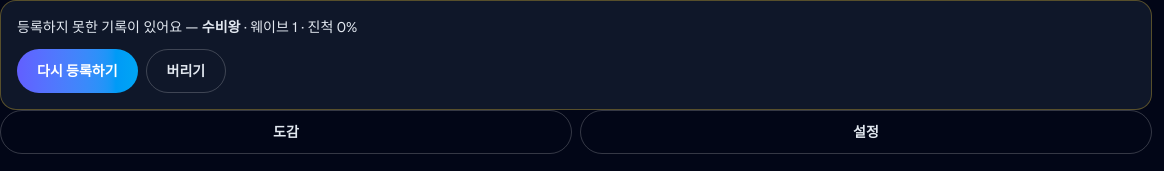
도감·허브 보조 동작 › 허브 — 다시 등록하기를 연타해도 한 번만 낸다(세션 1회용 — 두 번째 실패가 성공 문구를 덮지 않게)
Click the button with test id "defense-pending-retry" at (77, 71), box x1=17 y1=49 x2=138 y2=93
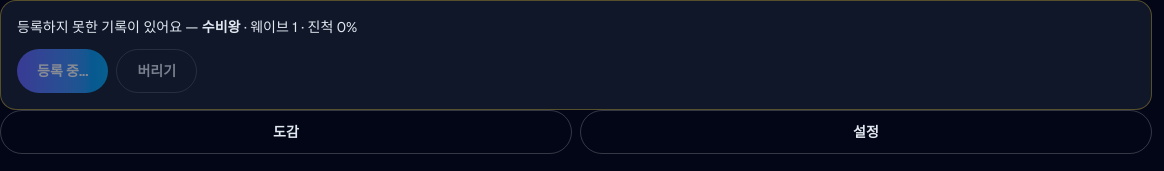
Click the button with test id "defense-pending-retry" at (63, 71), box x1=17 y1=49 x2=108 y2=93
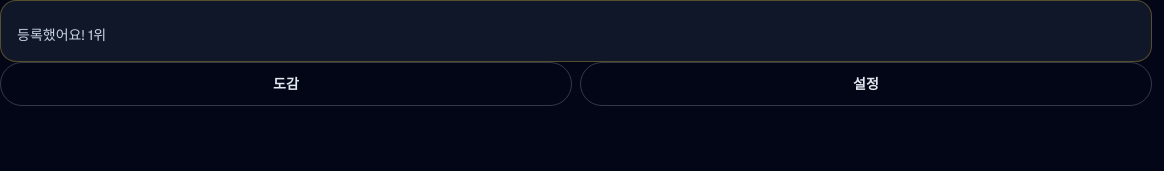
expect the element with test id "defense-pending" shows "등록했어요": met, box x1=17 y1=26 x2=106 y2=44
